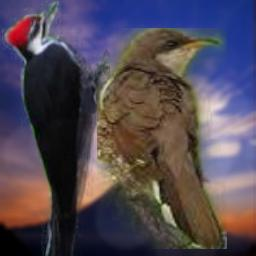Cuckoo: (97, 28, 227, 249)
Woodpecker: (2, 1, 110, 256)
